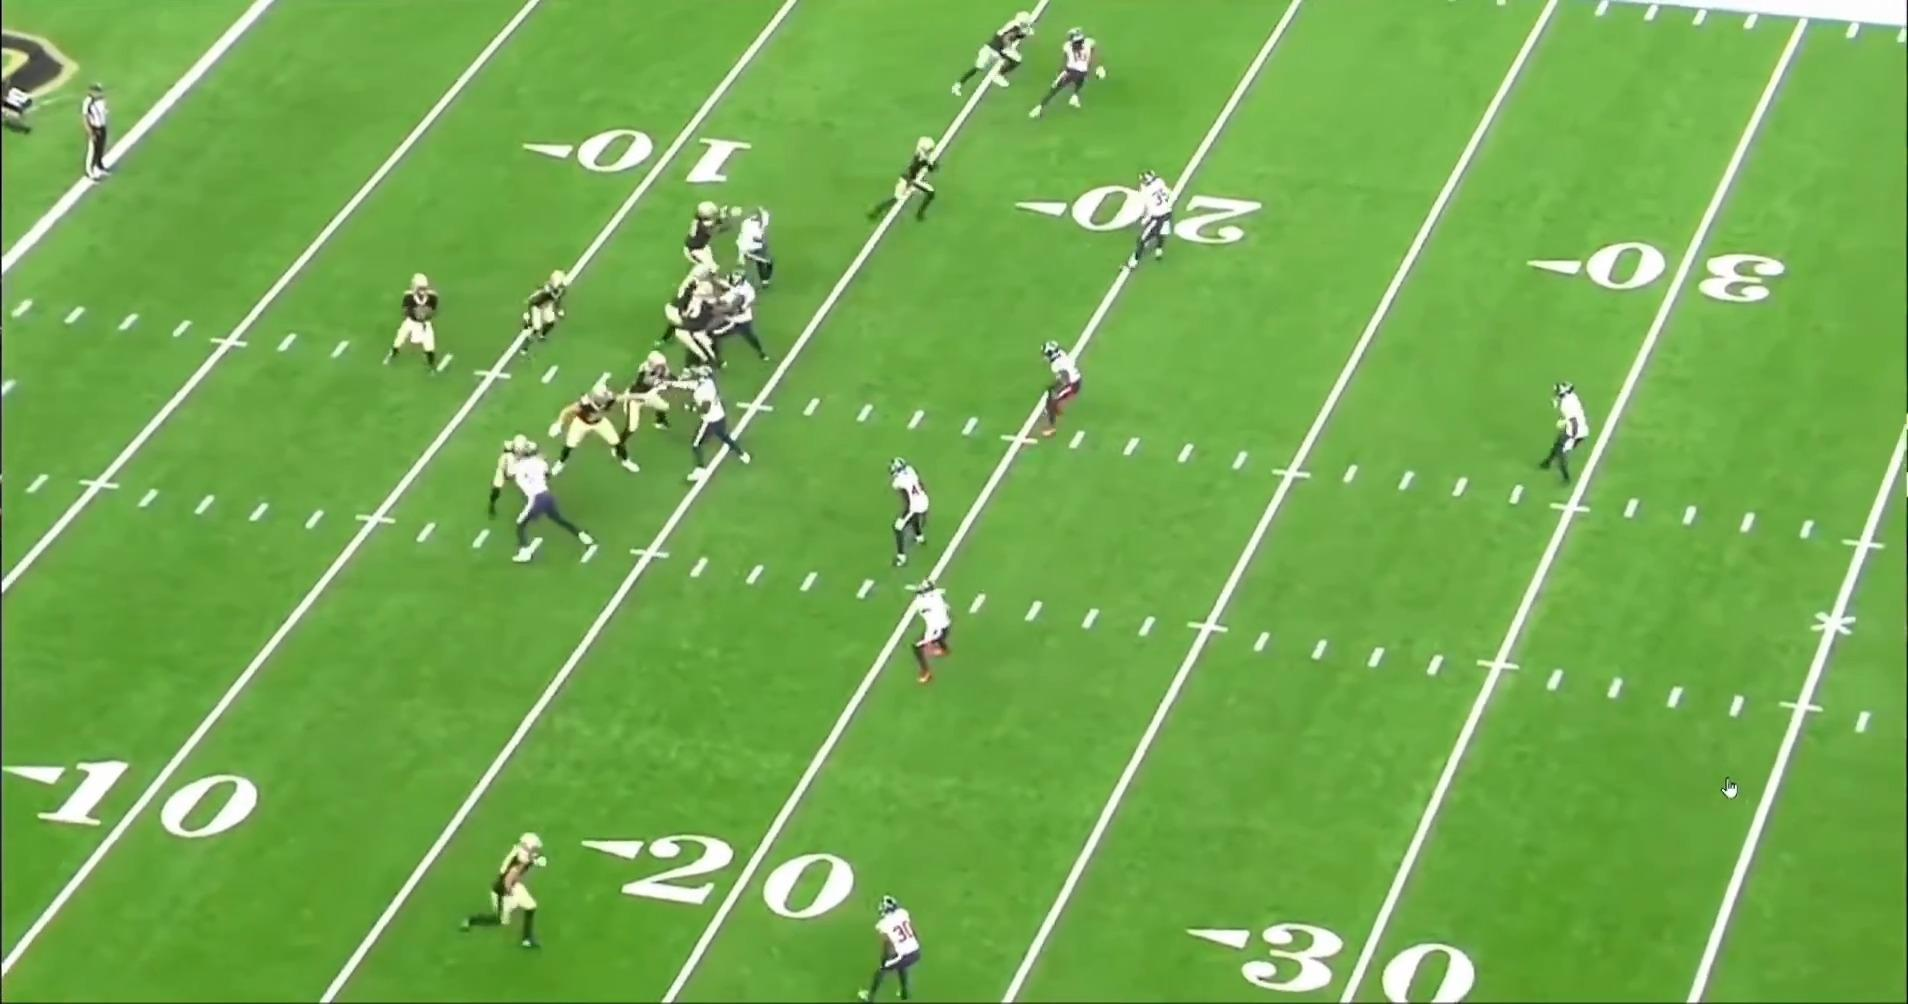defense: (505, 442, 606, 563), (680, 371, 754, 488), (1037, 22, 1115, 122), (851, 892, 918, 1001), (1542, 379, 1599, 487), (884, 457, 936, 575), (715, 269, 776, 365), (1122, 168, 1175, 275), (914, 573, 964, 686), (1041, 338, 1092, 443), (738, 205, 782, 293)
oline: (544, 378, 637, 484), (678, 286, 742, 384), (625, 346, 684, 436), (688, 196, 741, 277), (667, 259, 725, 328)
qb: (388, 266, 455, 378)
ref: (77, 76, 116, 183)
skill: (459, 824, 554, 959), (942, 6, 1030, 104), (877, 131, 952, 227), (480, 436, 537, 527), (519, 267, 574, 361)
